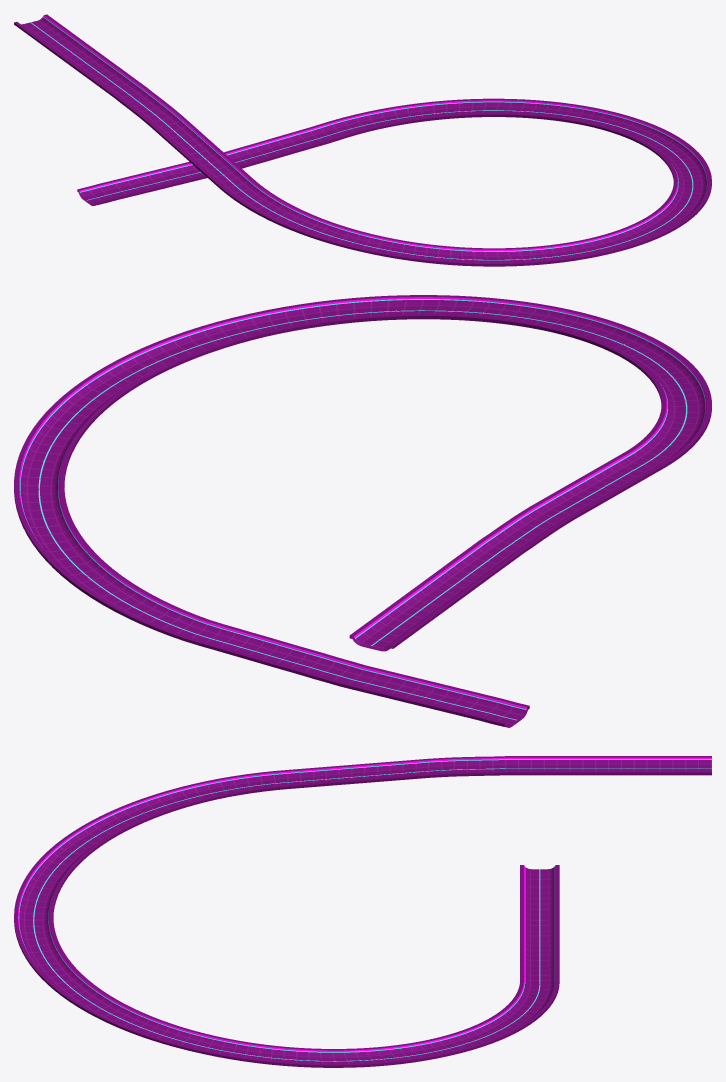
The model's file is blue_90_L_T2.fbx.
3 renders of one model, top to bottom at view 1: azimuth 30°, elevation 25°; view 2: azimuth 150°, elevation 25°; view 3: azimuth 270°, elevation 25°, orthographic. The views are drawn at different scales.
Visible parts, largest first — view 1: blue_90_L_T2; view 2: blue_90_L_T2; view 3: blue_90_L_T2.
Boxes of the visible parts, x1,y1,x2,y2 form: blue_90_L_T2: (14,14,711,266); blue_90_L_T2: (14,295,711,727); blue_90_L_T2: (14,756,711,1067).
Bounding box in the file's own units: 15975 × 3808 × 19984.
2 materials, 1 textured.
